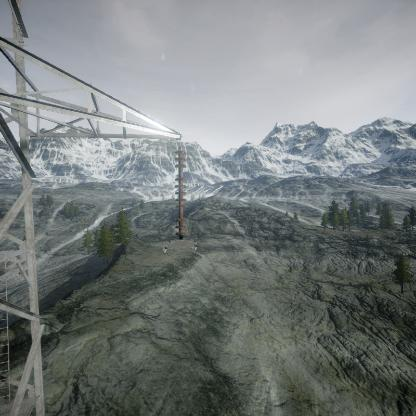insulator: (173, 146, 187, 239)
